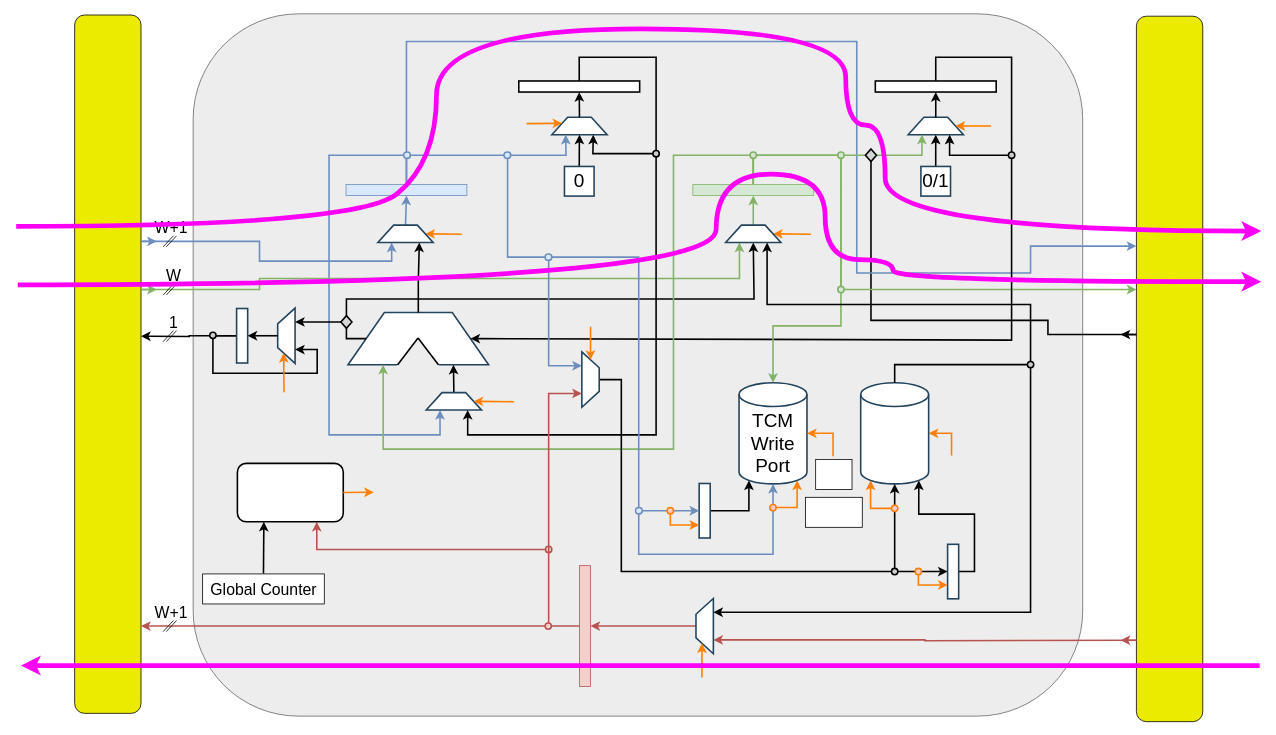
Image size: 1276x735. Some labels were removed from this diagram. The centre of each missing label's shape, as x and y in pixels:
Local Controller: the point at 290,492
PE: the point at 833,474
TCM Read Port: the point at 894,433
W/RE: the point at 833,512
